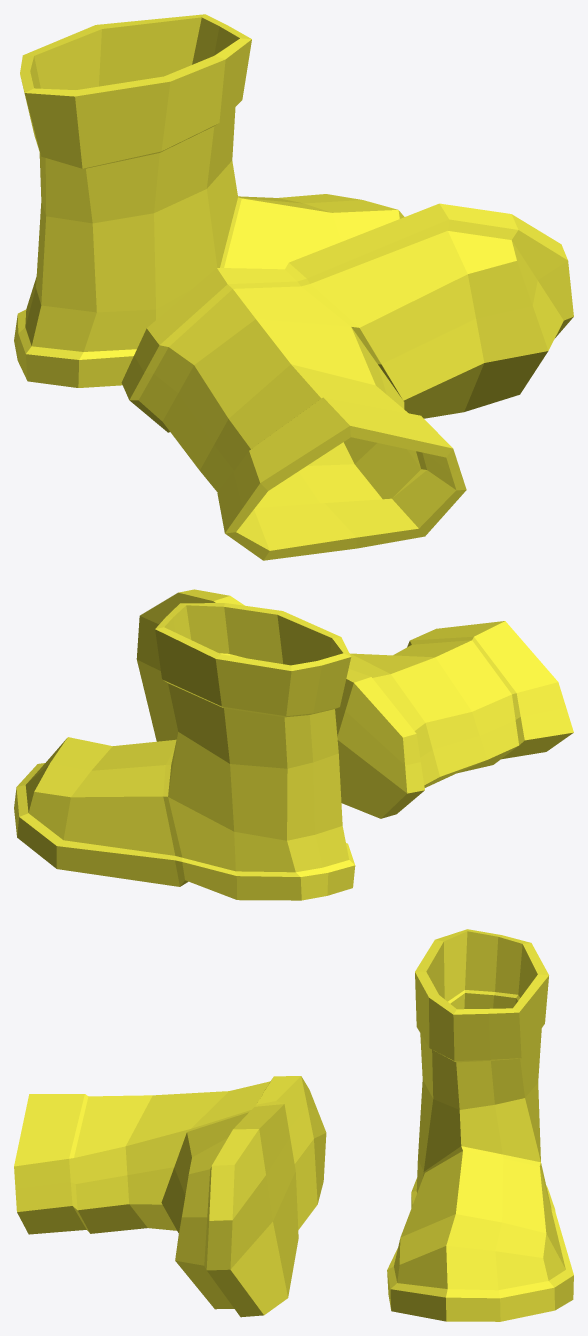
The model's file is Backyard_Boots.fbx.
3 renders of one model, top to bottom at view 1: azimuth 30°, elevation 25°; view 2: azimuth 150°, elevation 25°; view 3: azimuth 270°, elevation 25°, orthographic. The views are drawn at different scales.
Parts seen in each view (by area): view 1: Backyard_Boots; view 2: Backyard_Boots; view 3: Backyard_Boots.
Boxes of the visible parts, x1,y1,x2,y2 form: Backyard_Boots: (14,14,573,560); Backyard_Boots: (14,589,573,900); Backyard_Boots: (14,929,573,1321).
Size of the model in its own units: 49.72 by 32.65 by 64.33.
